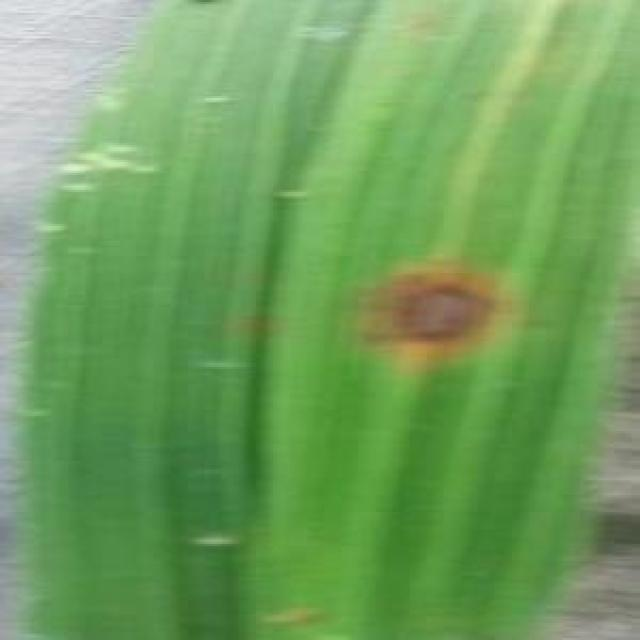Brown_Spot: (370, 256, 505, 354)
